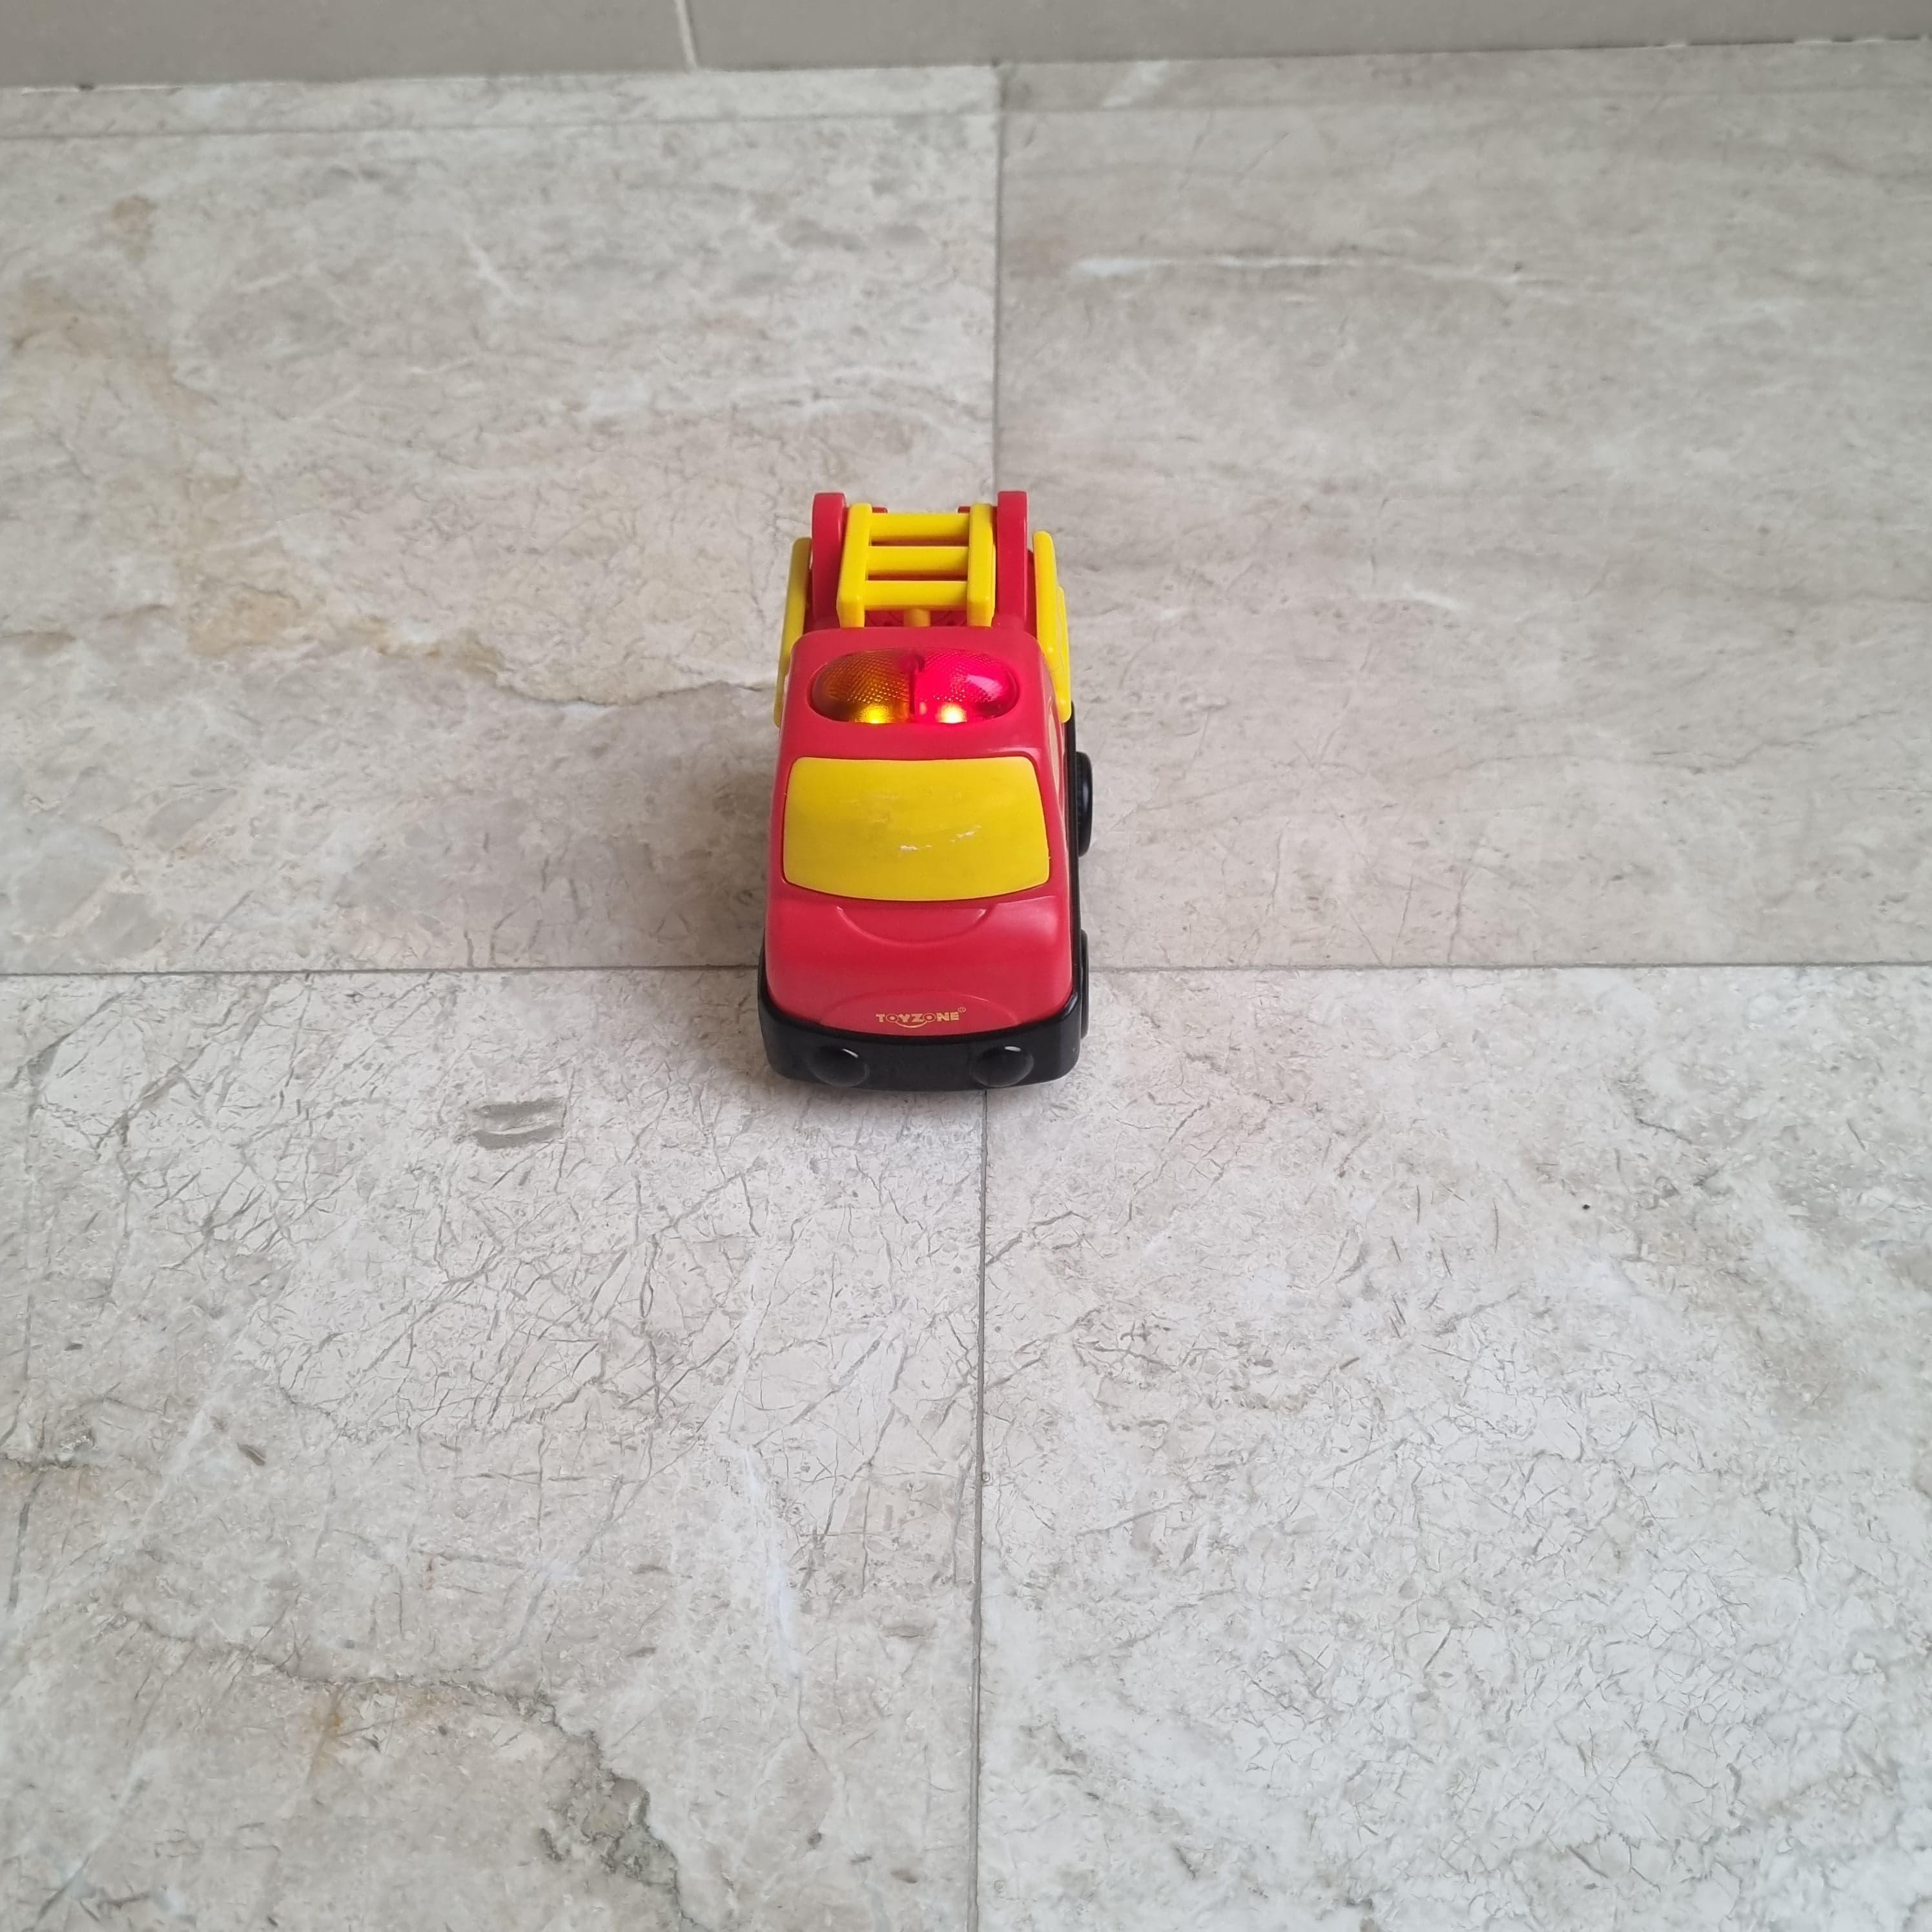firetruck_on: (757, 490, 1097, 1092)
